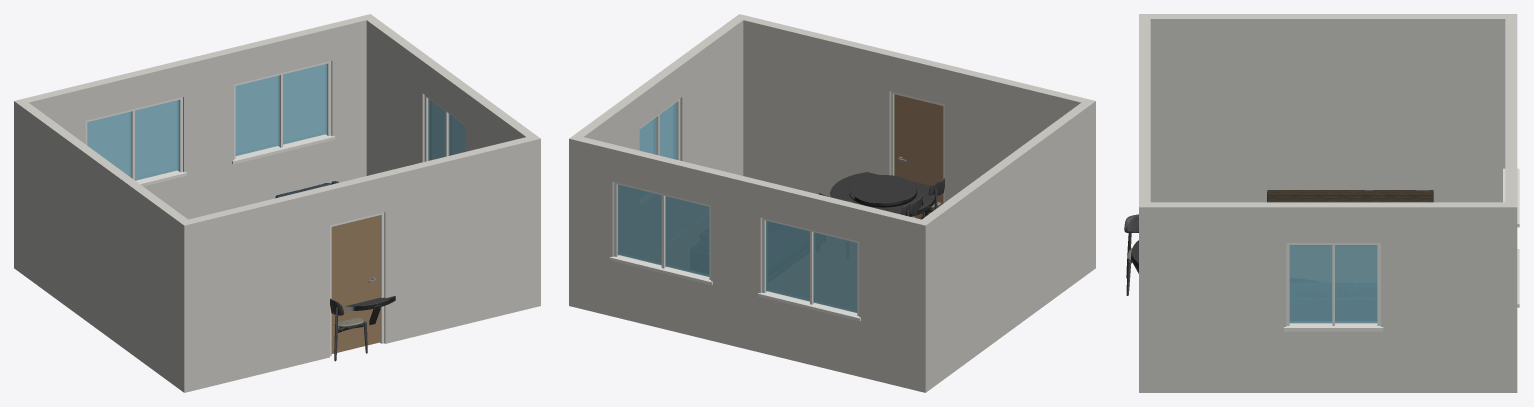
The model's file is instructscene.glb.
3 renders of one model, left to right at view 1: azimuth 30°, elevation 25°; view 2: azimuth 150°, elevation 25°; view 3: azimuth 270°, elevation 25°, orthographic. The views are drawn at different scales.
Parts seen in each view (by area): view 1: wall|scenesmith_007__R00|0, wall|scenesmith_007__R00|2, wall|scenesmith_007__R00|1, wall|scenesmith_007__R00|3, wall|scenesmith_007__R00|1 Window 0 | glazing, wall|scenesmith_007__R00|0 Door 0 | wood leaf, wall|scenesmith_007__R00|1 Window 0 | jamb, wall|scenesmith_007__R00|3 Window 0 | glazing, wall|scenesmith_007__R00|0 Door 0 | jamb, raw_model, wall|scenesmith_007__R00|3 Window 0 | jamb, raw_model.003; view 2: wall|scenesmith_007__R00|1, wall|scenesmith_007__R00|0, wall|scenesmith_007__R00|2, wall|scenesmith_007__R00|3, wall|scenesmith_007__R00|1 Window 0 | glazing, wall|scenesmith_007__R00|0 Door 0 | wood leaf, wall|scenesmith_007__R00|1 Window 0 | jamb, raw_model.003, wall|scenesmith_007__R00|3 Window 0 | glazing, wall|scenesmith_007__R00|0 Door 0 | jamb, raw_model, wall|scenesmith_007__R00|3 Window 0 | jamb; view 3: wall|scenesmith_007__R00|2, wall|scenesmith_007__R00|3, wall|scenesmith_007__R00|3 Window 0 | glazing, wall|scenesmith_007__R00|1, wall|scenesmith_007__R00|0, raw_model.002, wall|scenesmith_007__R00|3 Window 0 | jamb, raw_model, wall|scenesmith_007__R00|1 Window 0 | jamb.
Part boxes in pixels (left/top/right/bottom): wall|scenesmith_007__R00|0: left=179, top=135, right=540, bottom=390; wall|scenesmith_007__R00|2: left=14, top=99, right=193, bottom=392; wall|scenesmith_007__R00|1: left=14, top=16, right=366, bottom=271; wall|scenesmith_007__R00|3: left=361, top=14, right=540, bottom=307; wall|scenesmith_007__R00|1 Window 0 | glazing: left=87, top=64, right=326, bottom=180; wall|scenesmith_007__R00|0 Door 0 | wood leaf: left=331, top=215, right=380, bottom=353; wall|scenesmith_007__R00|1 Window 0 | jamb: left=85, top=61, right=335, bottom=186; wall|scenesmith_007__R00|3 Window 0 | glazing: left=428, top=99, right=465, bottom=160; wall|scenesmith_007__R00|0 Door 0 | jamb: left=330, top=212, right=384, bottom=356; raw_model: left=330, top=298, right=367, bottom=361; wall|scenesmith_007__R00|3 Window 0 | jamb: left=424, top=95, right=465, bottom=161; raw_model.003: left=345, top=296, right=395, bottom=325; wall|scenesmith_007__R00|1: left=578, top=137, right=930, bottom=392; wall|scenesmith_007__R00|0: left=734, top=14, right=1095, bottom=201; wall|scenesmith_007__R00|2: left=916, top=101, right=1095, bottom=392; wall|scenesmith_007__R00|3: left=569, top=18, right=743, bottom=307; wall|scenesmith_007__R00|1 Window 0 | glazing: left=617, top=184, right=857, bottom=312; wall|scenesmith_007__R00|0 Door 0 | wood leaf: left=894, top=94, right=943, bottom=219; wall|scenesmith_007__R00|1 Window 0 | jamb: left=609, top=182, right=860, bottom=321; raw_model.003: left=830, top=172, right=935, bottom=219; wall|scenesmith_007__R00|3 Window 0 | glazing: left=639, top=102, right=676, bottom=159; wall|scenesmith_007__R00|0 Door 0 | jamb: left=890, top=91, right=944, bottom=203; raw_model: left=818, top=178, right=944, bottom=218; wall|scenesmith_007__R00|3 Window 0 | jamb: left=639, top=99, right=680, bottom=160; wall|scenesmith_007__R00|2: left=1150, top=14, right=1517, bottom=202; wall|scenesmith_007__R00|3: left=1150, top=202, right=1517, bottom=392; wall|scenesmith_007__R00|3 Window 0 | glazing: left=1289, top=245, right=1377, bottom=323; wall|scenesmith_007__R00|1: left=1505, top=19, right=1517, bottom=392; wall|scenesmith_007__R00|0: left=1139, top=14, right=1150, bottom=392; raw_model.002: left=1267, top=190, right=1433, bottom=202; wall|scenesmith_007__R00|3 Window 0 | jamb: left=1284, top=243, right=1383, bottom=331; raw_model: left=1124, top=214, right=1138, bottom=295; wall|scenesmith_007__R00|1 Window 0 | jamb: left=1503, top=168, right=1519, bottom=307.
Bounding box in the file's own units: 5.83 × 2.61 × 5.01.
10 materials, 4 textured.
